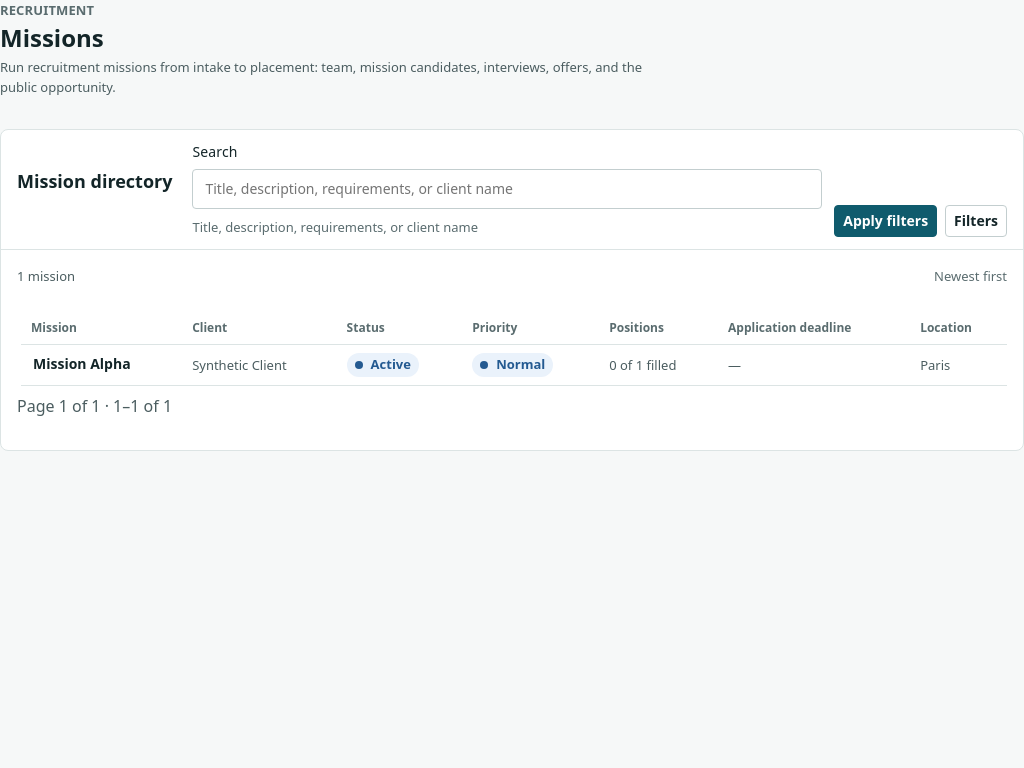
Scenario: Missions nested pagination › does not apply a stale client-contact append failure after search changes
The width and height of the screenshot is (1024, 768).
Step 1. Click the button "Mission Alpha" → (82,364), box top-left (33, 355), bottom-right (131, 374)
(page scrolled)
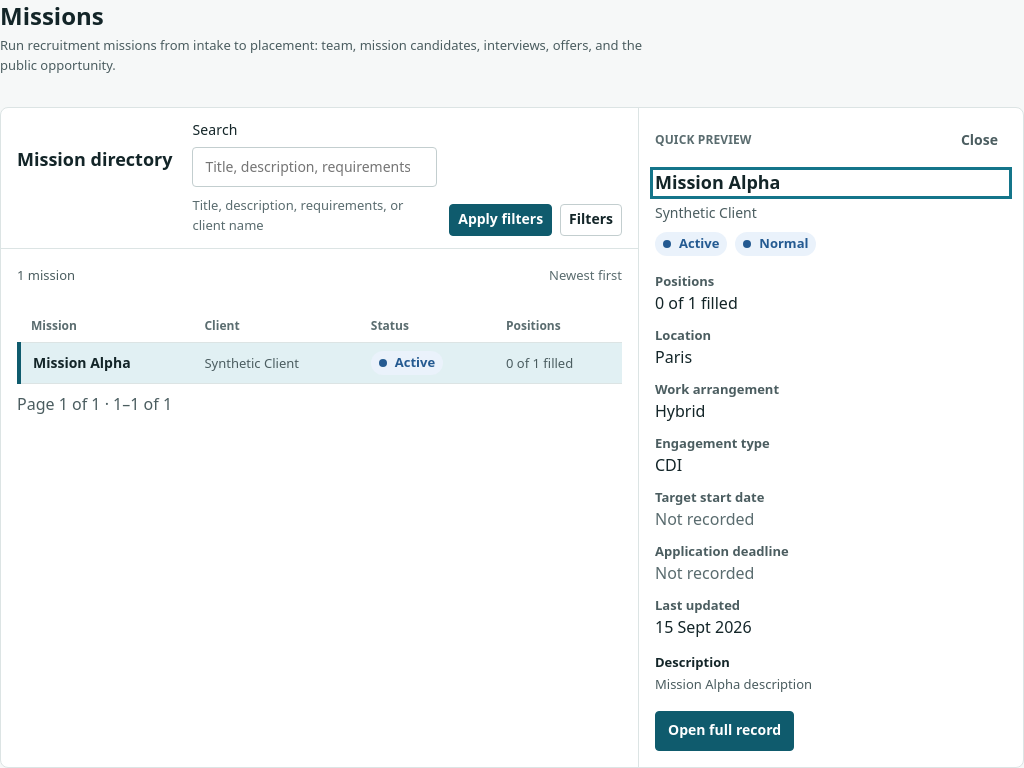
Step 2. Click the button "Open full record" → (725,730), box top-left (655, 710), bottom-right (794, 750)
(page scrolled)
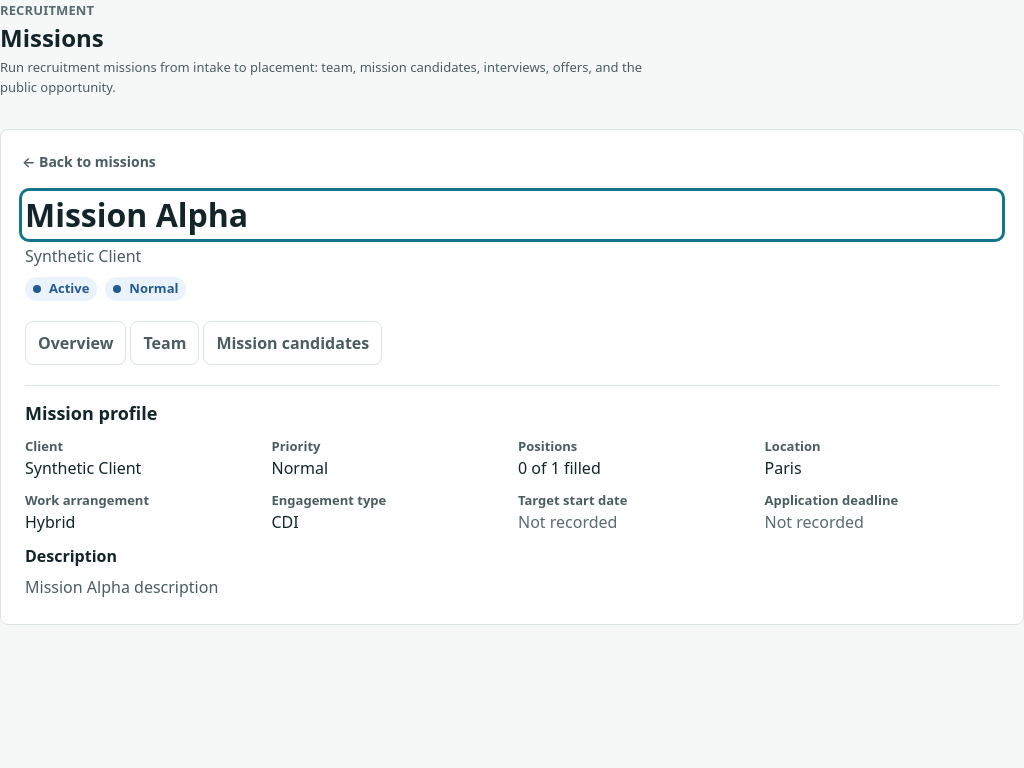
Step 3. Click the tab "Mission candidates" → (293,343), box top-left (203, 321), bottom-right (382, 365)
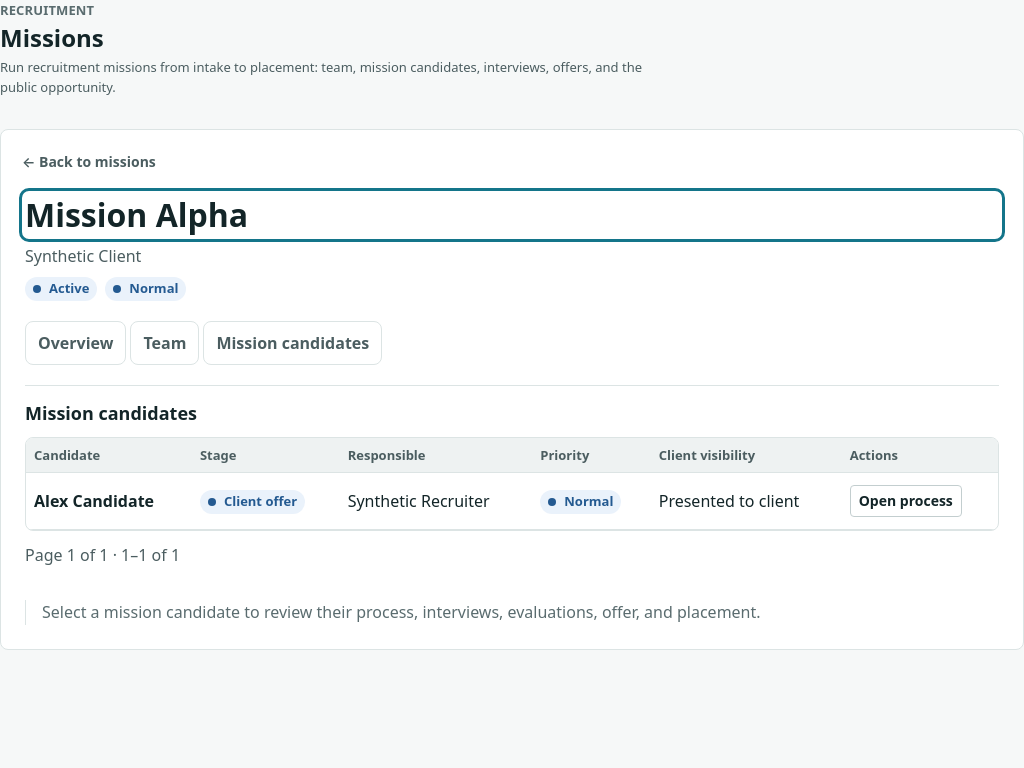
Step 4. Click the button with aria-label "Open the process for Alex" → (906,501), box top-left (850, 485), bottom-right (962, 517)
(page scrolled)
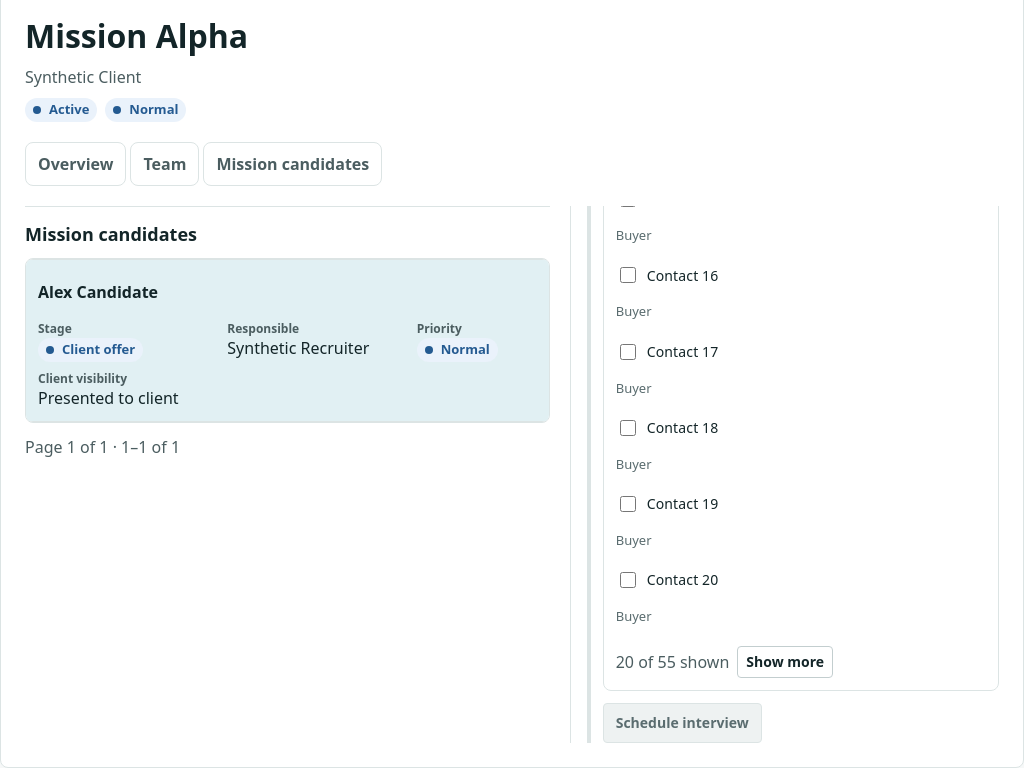
Expected: the checkbox labelled "Contact 20" is shown, top-left (620, 572), bottom-right (636, 588)
Step 5. Click the button "Show more" → (785,662), box top-left (737, 646), bottom-right (833, 678)
(page scrolled)
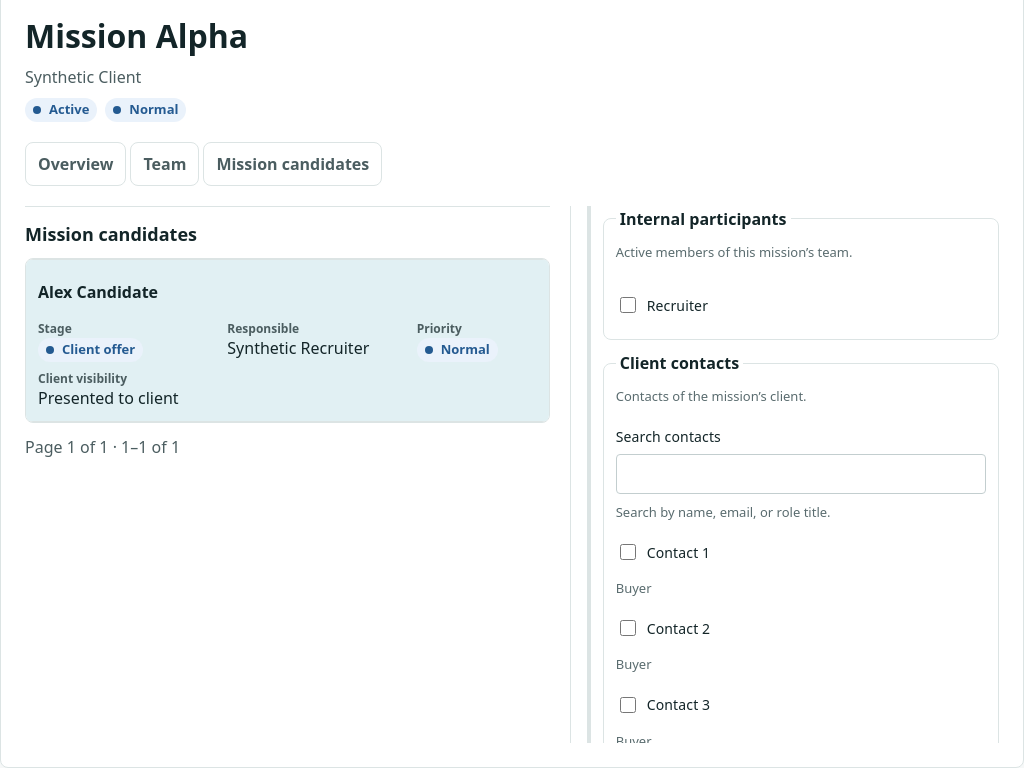
Step 6. Type "Contact 55" into the field labelled "Search contacts" → (801,474), box top-left (616, 454), bottom-right (986, 494)
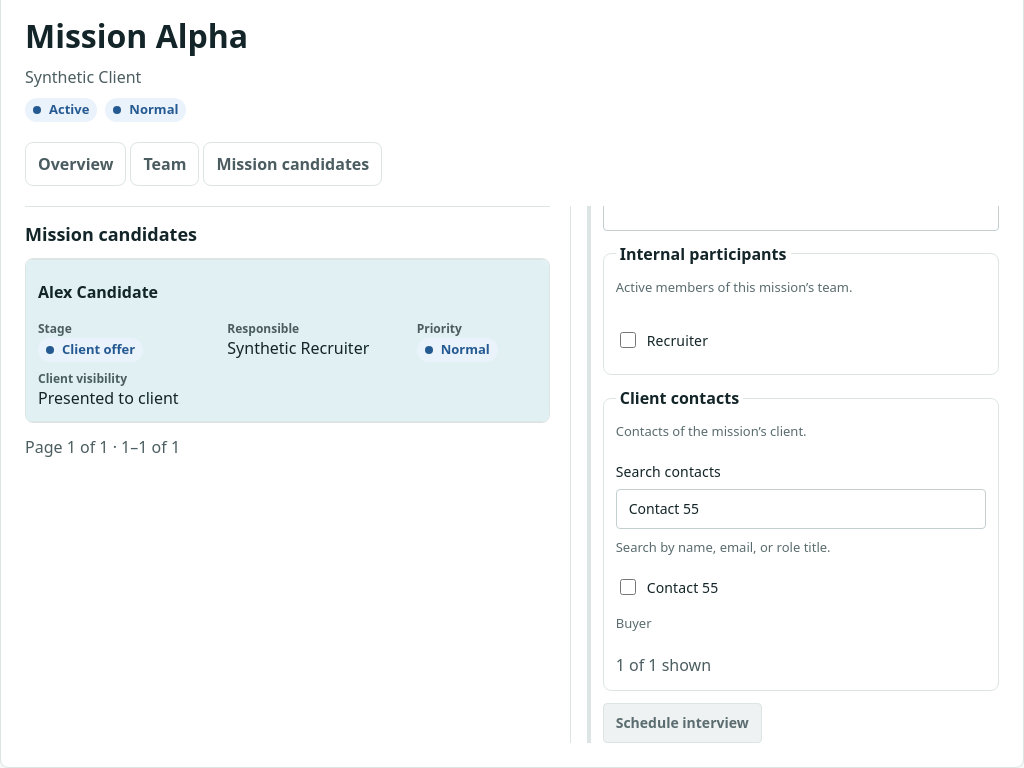
Expected: the message "1 mission Newest first" is not shown
Expected: the checkbox labelled "Contact 55" is shown, top-left (620, 579), bottom-right (636, 595)
Expected: the text "1 of 1 shown" is shown, top-left (616, 653), bottom-right (711, 678)
